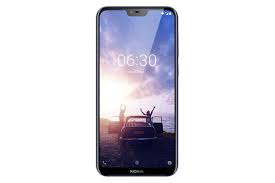nokia: (91, 3, 182, 178)
